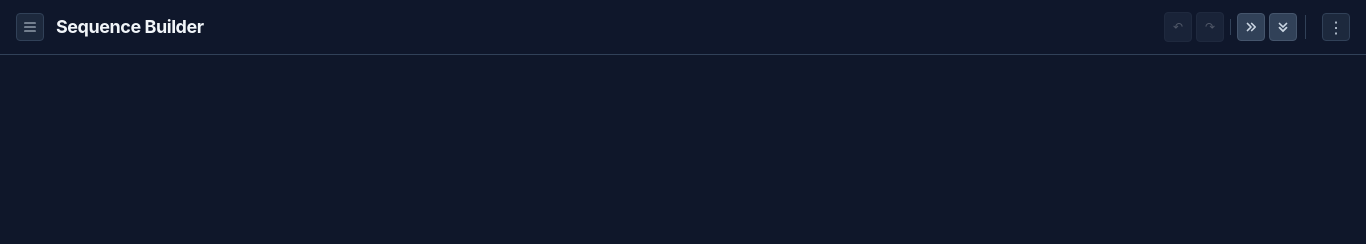
Scenario: PageHeader › disables Run Sequence and Run via API buttons while running
This screenshot has width=1366, height=244.
Click the button named "sequence actions".
click(1336, 27)  # box [1322,13,1350,41]
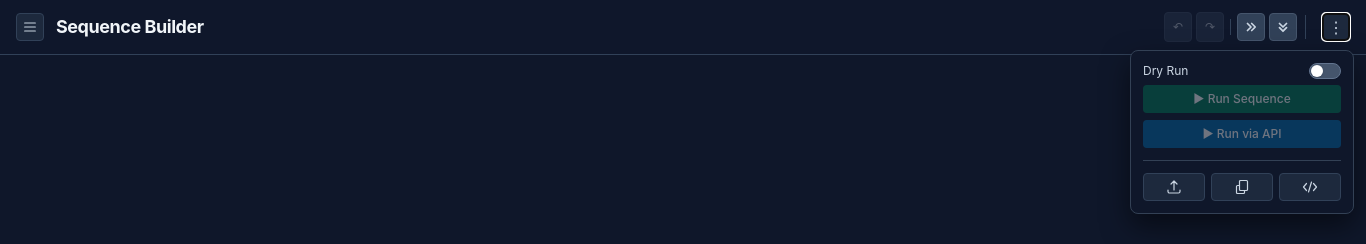
Now the button "▶ Run Sequence" is disabled, box [1143,85,1341,113]
Now the button "▶ Run via API" is disabled, box [1143,120,1341,148]
